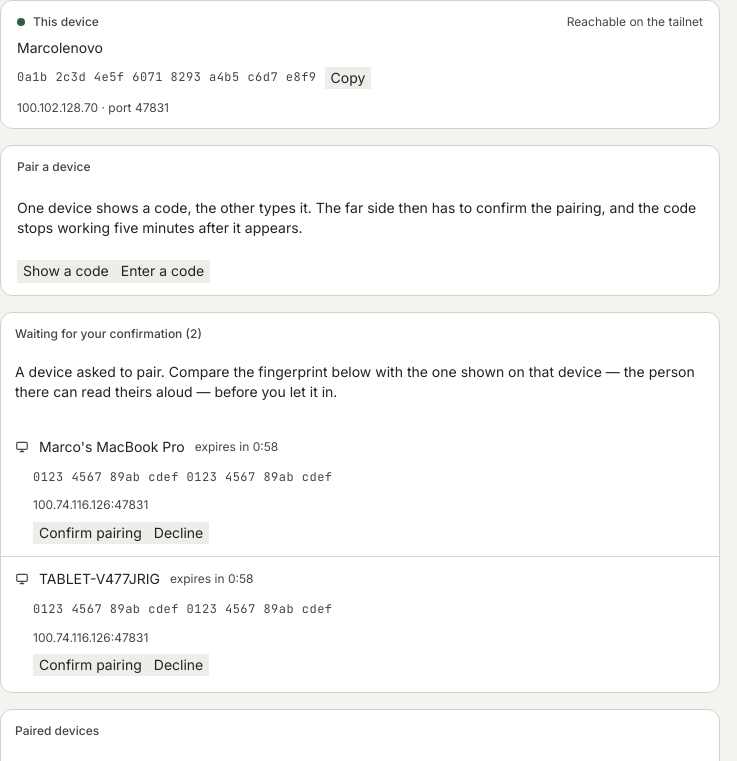
Scenario: devices panel › drops only the declined card when two are waiting
# The second card, so the survivor is the first one.
Click the button "Decline" below "TABLET-V477JRIG": coordinates (179, 665) 148,654 -> 209,676
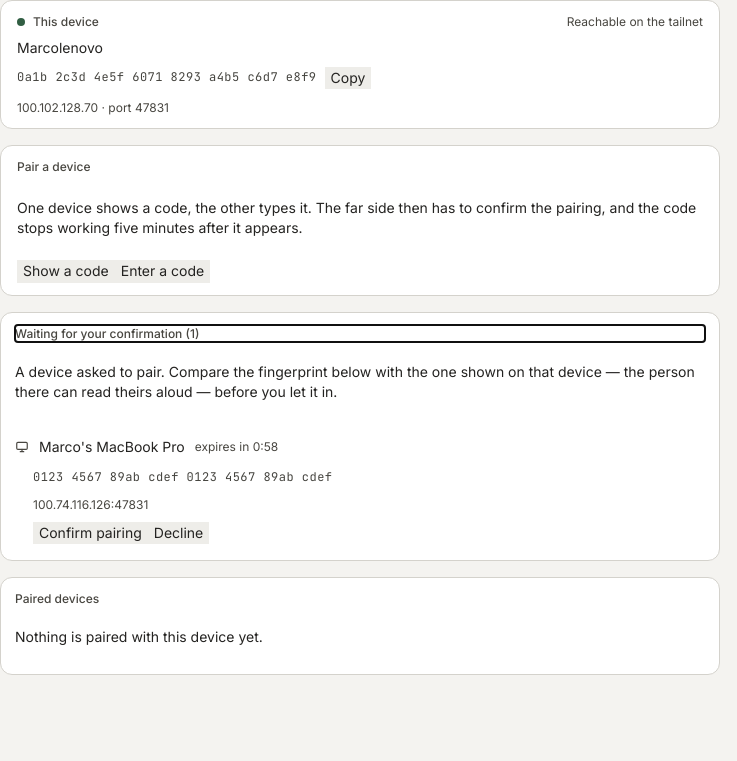
expect the text "Marco's MacBook Pro" is shown: met, box 39,437 -> 185,457
expect the text "TABLET-V477JRIG" is gone: met
expect the text "Waiting for your confirmation (1)" is shown: met, box 15,326 -> 199,341
